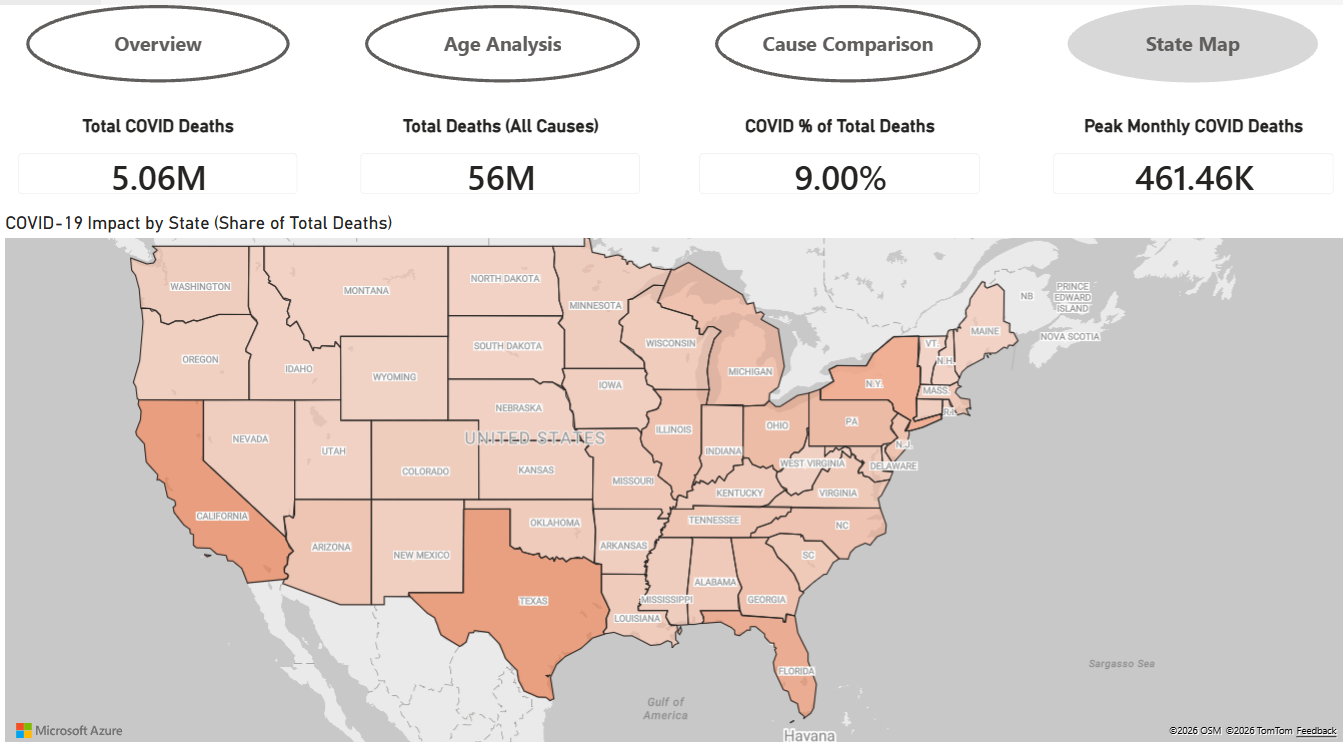

Layout of this report page (visuals, bound fields, positions):
{"tool":"powerbi","page":{"name":"State Map","canvas":[1280,720],"ordinal":3},"visuals":[{"type":"cardVisual","title":"Total COVID Deaths","fields":{"Data":["Covid_Death.Total COVID Deaths"]},"box":[0,103.9,299.6,92.9],"z":0},{"type":"cardVisual","title":"Total Deaths (All Causes)","fields":{"Data":["Covid_Death.Total Deaths"]},"box":[324.1,103.9,299.6,92.9],"z":1000},{"type":"cardVisual","title":"COVID % of Total Deaths","fields":{"Data":["Covid_Death.COVID Share of Total Deaths"]},"box":[645.7,103.9,300.8,92.9],"z":2000},{"type":"cardVisual","title":"Peak Monthly COVID Deaths","fields":{"Data":["Covid_Death.Peak Monthly COVID Deaths"]},"box":[979.5,103.9,300.8,92.9],"z":3000},{"type":"actionButton","title":"Age Analysis","box":[346.1,0,260.5,73.4],"z":4000},{"type":"actionButton","title":"Cause Comparison","box":[677.4,0,251.9,73.4],"z":5000},{"type":"actionButton","title":"State Map","box":[1011.3,0,237.2,73.4],"z":6000},{"type":"actionButton","title":"Overview","box":[24.5,0,249.5,73.4],"z":7000},{"type":"azureMap","title":"COVID-19 Impact by State (Share of Total Deaths)","fields":{"Category":["Covid_Death.State"]},"box":[0,196.9,1280.3,506.3],"z":7001}]}

Visuals, with their boxes in screenshot pixels (x1, y1, x2, y2), scaled from the page's 1280x720 canvas onto the 1343x743 screenshot:
"Total COVID Deaths" cardVisual: {"left": 0, "top": 107, "right": 314, "bottom": 203}
"Total Deaths (All Causes)" cardVisual: {"left": 340, "top": 107, "right": 654, "bottom": 203}
"COVID % of Total Deaths" cardVisual: {"left": 677, "top": 107, "right": 993, "bottom": 203}
"Peak Monthly COVID Deaths" cardVisual: {"left": 1028, "top": 107, "right": 1342, "bottom": 203}
"Age Analysis" actionButton: {"left": 363, "top": 0, "right": 636, "bottom": 76}
"Cause Comparison" actionButton: {"left": 711, "top": 0, "right": 975, "bottom": 76}
"State Map" actionButton: {"left": 1061, "top": 0, "right": 1310, "bottom": 76}
"Overview" actionButton: {"left": 26, "top": 0, "right": 287, "bottom": 76}
"COVID-19 Impact by State (Share of Total Deaths)" azureMap: {"left": 0, "top": 203, "right": 1342, "bottom": 726}
